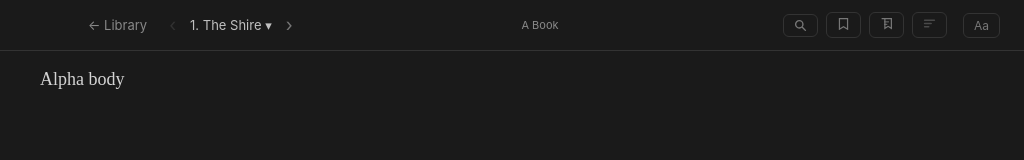
EpubReader — chapter navigation › advances chapters with the next arrow (instant jump)
Check: the text "Alpha body" is shown, box [40, 69, 124, 89]
Click the button "›" at (289, 25), box [280, 12, 299, 38]
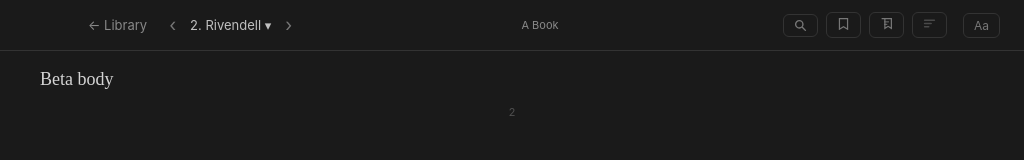
Check: the text "Beta body" is shown, box [40, 69, 114, 89]
Check: the button "2. Rivendell ▾" is shown, box [188, 13, 273, 37]
